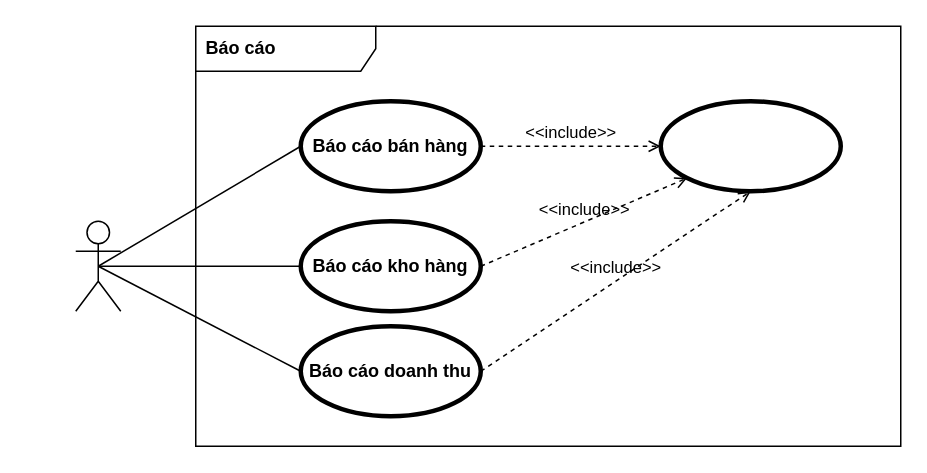
Image size: 927x473. Some labels were removed from this diagram. Each missing label, with the centre of its shape:
"Nhân viên kế toán" goes at pixel 97 265.
"Tạo file báo cáo" goes at pixel 750 145.
